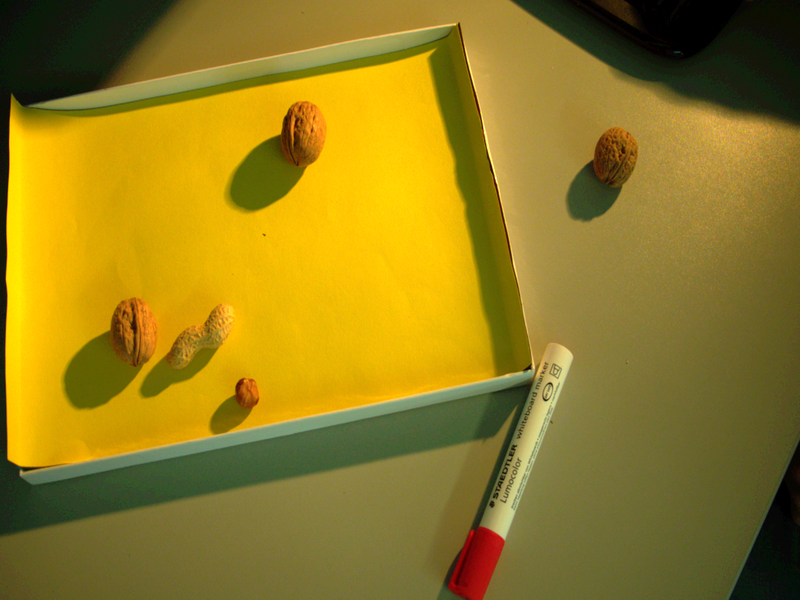walnut: (97, 291, 169, 371), (271, 95, 339, 172), (583, 122, 653, 193)
